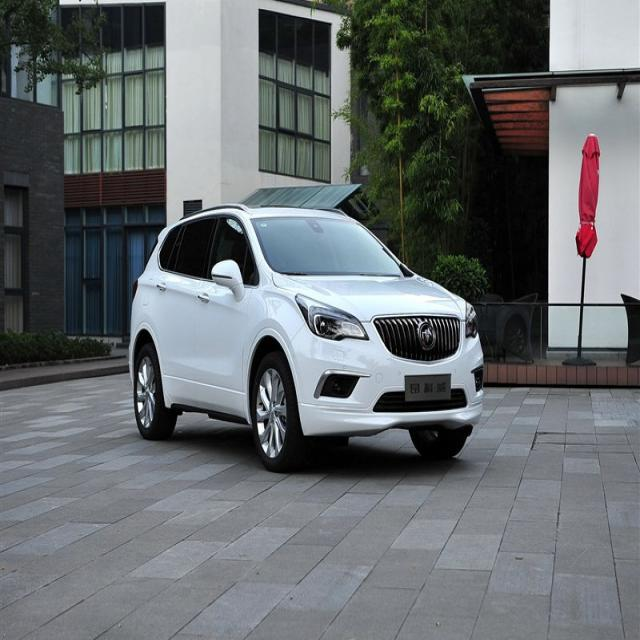back_right_side_light: (132, 276, 139, 302)
door: (154, 214, 222, 393)
front_bumper: (283, 314, 486, 437)
front_glass: (250, 216, 404, 280)
front_left_side_light: (464, 301, 479, 340)
front_right_side_door: (192, 210, 254, 420)
front_right_side_light: (294, 292, 369, 343)
front_right_side_mirror: (210, 258, 246, 302)
wheel: (250, 358, 304, 472), (133, 341, 175, 440), (407, 416, 466, 458)
